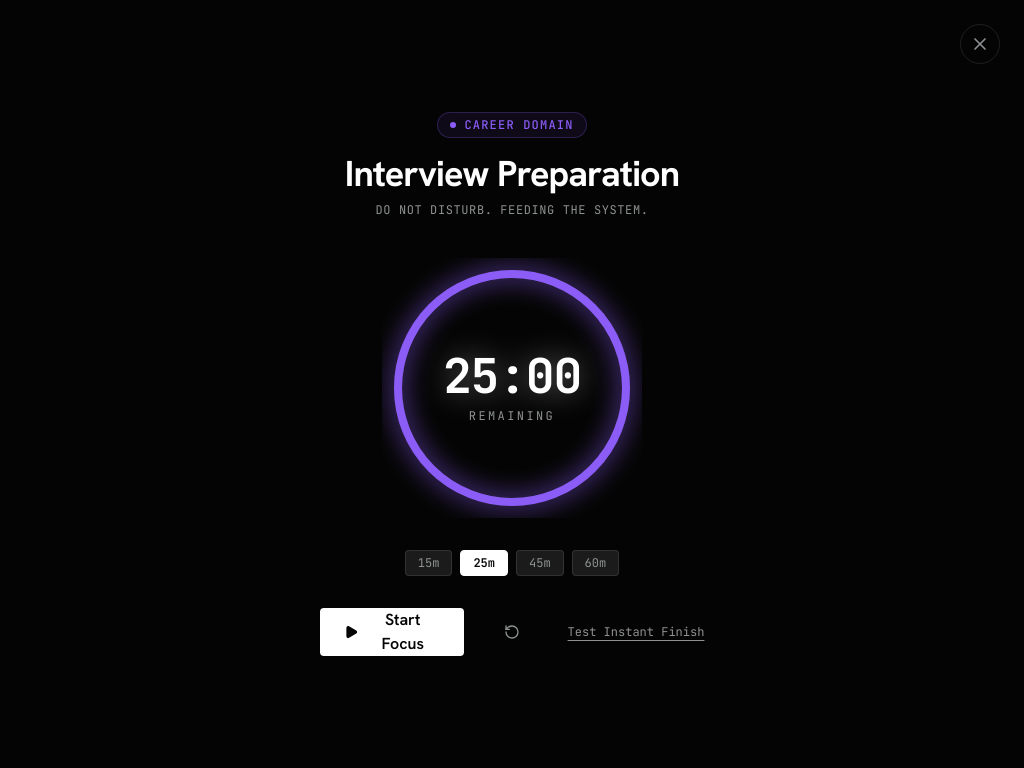
FocusTimerModal › completes session and records focus on Instant Finish
The width and height of the screenshot is (1024, 768).
Click the button "Test Instant Finish" at [636, 632], box x1=568 y1=624 x2=704 y2=640
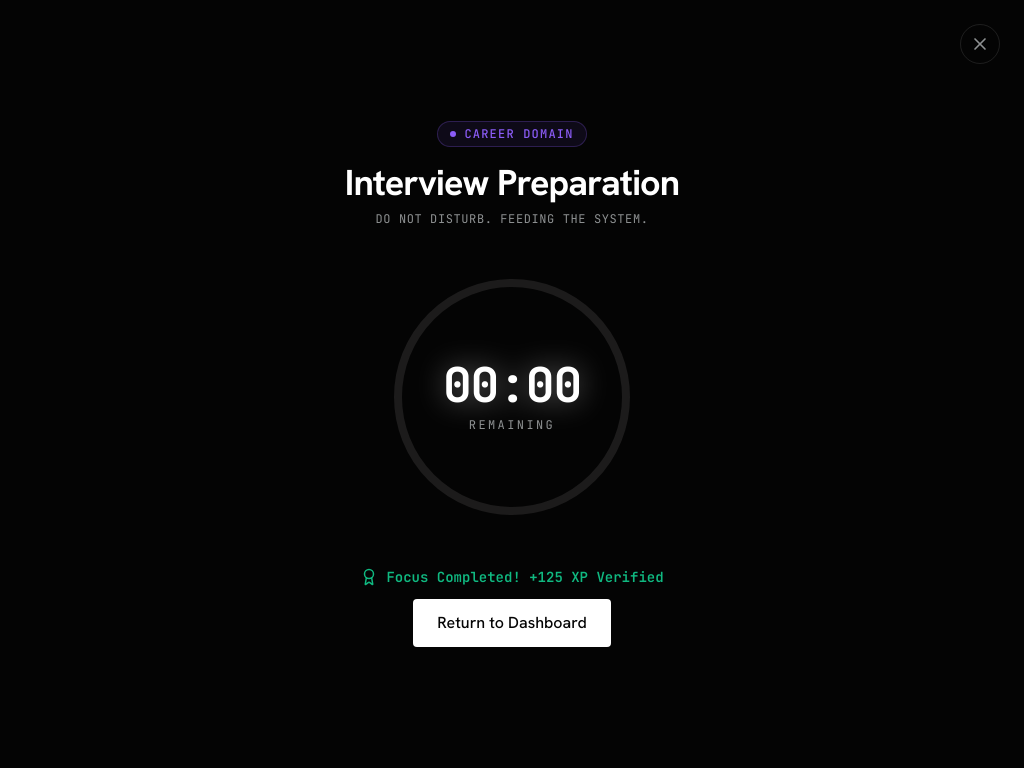
Now the text "Focus Completed! +125 XP Verified" is shown, box x1=386 y1=567 x2=664 y2=587
